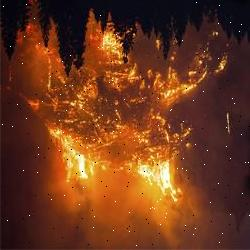fire: (5, 14, 202, 200)
